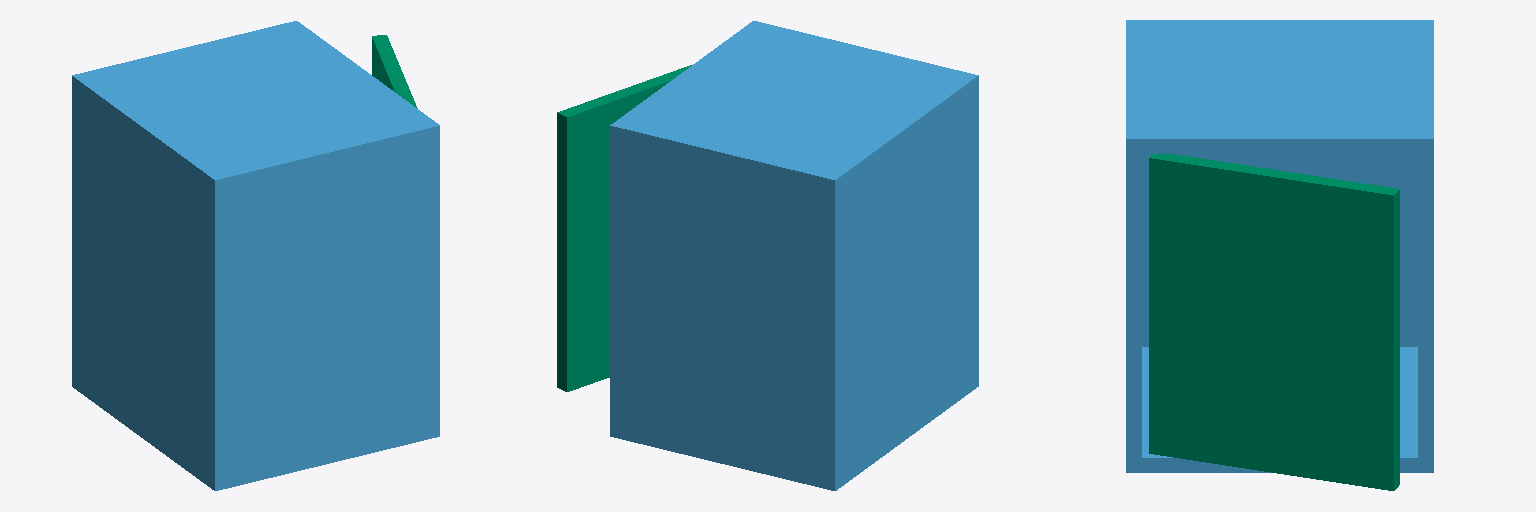
robot.urdf — my_cabinet:
<?xml version="1.0" ?>
<robot name="my_cabinet">
	<link name="world"/>
	<joint name="virtual_joint" type="fixed">
		<parent link="world"/>
		<child link="base_cabinet_link"/>
		<origin rpy="0.0 0.0 0.0" xyz="0.0 0.0 0.0"/>
	</joint>
	<link name="base_cabinet_link">
		<visual>
			<origin rpy="0.0 0.0 0.0" xyz="0.0 -0.0025 -0.189"/>
			<geometry>
				<box size="0.3 0.331 0.018"/>
			</geometry>
		</visual>
		<collision name="base_cabinet_link_collision_0">
			<origin rpy="0.0 0.0 0.0" xyz="0.0 -0.0025 -0.189"/>
			<geometry>
				<box size="0.3 0.331 0.018"/>
			</geometry>
		</collision>
		<visual>
			<origin rpy="0.0 0.0 0.0" xyz="0.0 0.15400000000000003 0.0"/>
			<geometry>
				<box size="0.3 0.018 0.396"/>
			</geometry>
		</visual>
		<collision name="base_cabinet_link_collision_1">
			<origin rpy="0.0 0.0 0.0" xyz="0.0 0.15400000000000003 0.0"/>
			<geometry>
				<box size="0.3 0.018 0.396"/>
			</geometry>
		</collision>
		<visual>
			<origin rpy="0.0 0.0 0.0" xyz="0.0 -0.15900000000000003 0.0"/>
			<geometry>
				<box size="0.3 0.018 0.396"/>
			</geometry>
		</visual>
		<collision name="base_cabinet_link_collision_2">
			<origin rpy="0.0 0.0 0.0" xyz="0.0 -0.15900000000000003 0.0"/>
			<geometry>
				<box size="0.3 0.018 0.396"/>
			</geometry>
		</collision>
		<visual>
			<origin rpy="0.0 0.0 0.0" xyz="0.0 -0.0025 0.189"/>
			<geometry>
				<box size="0.3 0.331 0.018"/>
			</geometry>
		</visual>
		<collision name="base_cabinet_link_collision_3">
			<origin rpy="0.0 0.0 0.0" xyz="0.0 -0.0025 0.189"/>
			<geometry>
				<box size="0.3 0.331 0.018"/>
			</geometry>
		</collision>
		<visual>
			<origin rpy="0.0 0.0 0.0" xyz="-0.141 -0.0025 0.0"/>
			<geometry>
				<box size="0.018 0.331 0.396"/>
			</geometry>
		</visual>
		<collision name="base_cabinet_link_collision_4">
			<origin rpy="0.0 0.0 0.0" xyz="-0.141 -0.0025 0.0"/>
			<geometry>
				<box size="0.018 0.331 0.396"/>
			</geometry>
		</collision>
		<inertial>
			<mass value="0.200000"/>
			<inertia ixx="0.004440" ixy="0.0" ixz="0.0" iyy="0.004114" iyz="0.0" izz="0.003326"/>
		</inertial>
	</link>
	<link name="door_link">
		<visual>
			<origin xyz="0.0 -0.14 0.0"/>
			<geometry>
				<box size="0.018 0.28 0.35"/>
			</geometry>
		</visual>
		<collision name="door_link_collision">
			<origin xyz="0.0 -0.14 0.0"/>
			<geometry>
				<box size="0.018 0.28 0.35"/>
			</geometry>
		</collision>
		<inertial>
			<mass value="0.200000"/>
			<inertia ixx="0.003348" ixy="0.0" ixz="0.0" iyy="0.002047" iyz="0.0" izz="0.001312"/>
		</inertial>
	</link>
	<joint name="door_joint" type="revolute">
		<origin rpy="0.000000 -0.000000 2.792527" xyz="0.141 -0.14 0.0"/>
		<axis xyz="0 0 1"/>
		<parent link="base_cabinet_link"/>
		<child link="door_link"/>
		<limit effort="50" lower="-1.658062789394613" upper="0" velocity="10"/>
		<dynamics damping="3.5" friction="3.5"/>
	</joint>
	<gazebo reference="base_cabinet_link">
		<material>Gazebo/Grey</material>
	</gazebo>
	<gazebo reference="door_link">
		<material>Gazebo/Grey</material>
	</gazebo>
</robot>

--- What the picture shows (computed from the rendered views, not written in the file) ---
The picture shows the robot from 3 angles, left to right: view 1: azimuth 30°, elevation 25°; view 2: azimuth 150°, elevation 25°; view 3: azimuth 270°, elevation 25°; orthographic projection.
Robot: my_cabinet — 3 links, 2 joints (1 revolute, 1 fixed); root link world; default pose: every joint at zero.
Links seen in each view (by area): view 1: base_cabinet_link, door_link; view 2: base_cabinet_link, door_link; view 3: door_link, base_cabinet_link.
Link boxes in pixels (x1,y1,x2,y2): base_cabinet_link: (72,21,439,490); door_link: (372,35,417,108); base_cabinet_link: (610,21,978,490); door_link: (557,65,691,391); door_link: (1149,154,1399,490); base_cabinet_link: (1126,20,1433,472).
Size in the robot's own frame: 0.3952 by 0.331 by 0.396 metres.
Geometry: primitives only (box / cylinder / sphere), no mesh files.
